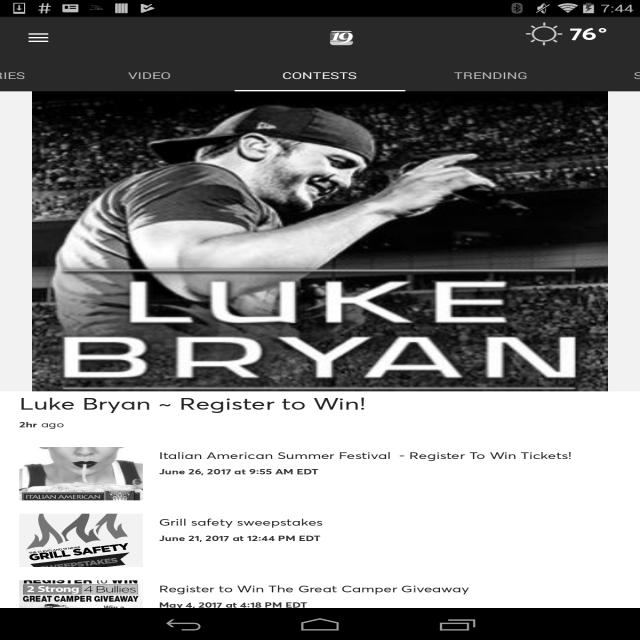ImageButton: (22, 24, 58, 50)
ImageView: (9, 507, 146, 565), (11, 442, 148, 499), (1, 571, 146, 611), (510, 16, 622, 46)
TextView: (42, 329, 584, 383), (109, 270, 522, 325), (6, 389, 380, 414), (143, 443, 578, 463), (151, 577, 478, 597), (155, 507, 334, 532), (268, 59, 363, 82), (443, 64, 551, 83), (117, 65, 199, 84)
